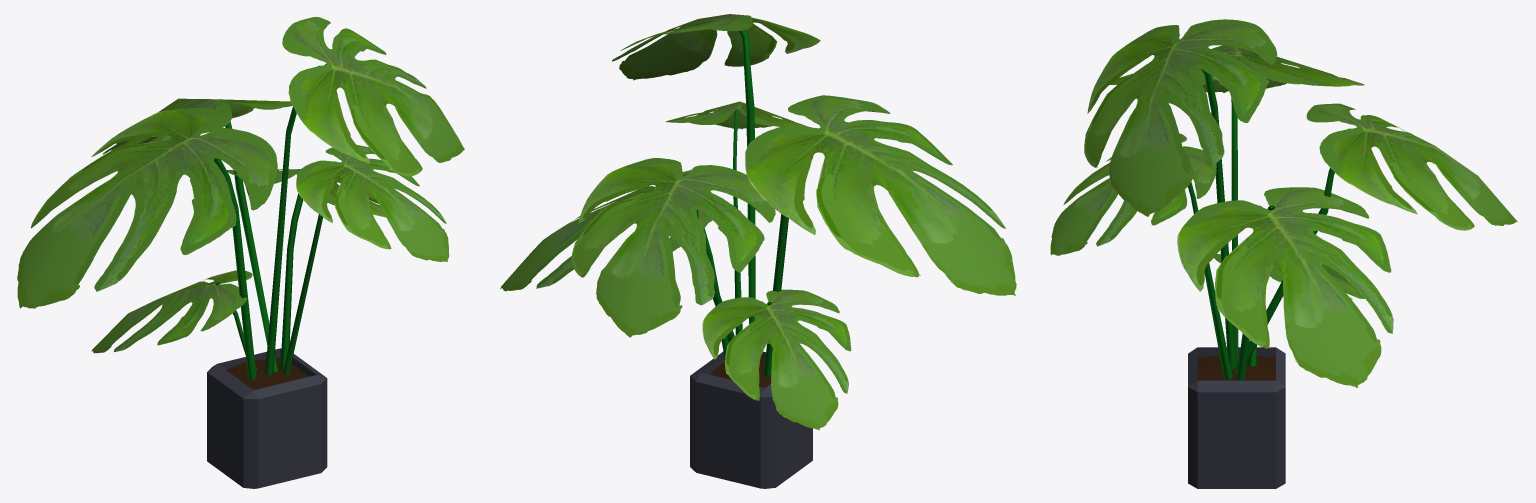
Rendered from Prop_pot1.FBX.
The picture shows the model from 3 angles, left to right: view 1: azimuth 30°, elevation 25°; view 2: azimuth 150°, elevation 25°; view 3: azimuth 270°, elevation 25°; orthographic projection. The views are drawn at different scales.
Parts seen in each view (by area): view 1: Plant_1; view 2: Plant_1; view 3: Plant_1.
Part boxes in pixels (x1,y1,x2,y2): Plant_1: (17,17,464,488); Plant_1: (500,14,1016,488); Plant_1: (1050,19,1517,488).
Bounding box in the file's own units: 81.15 × 68.17 × 73.56.
Materials: 4 (1 with a texture image).
